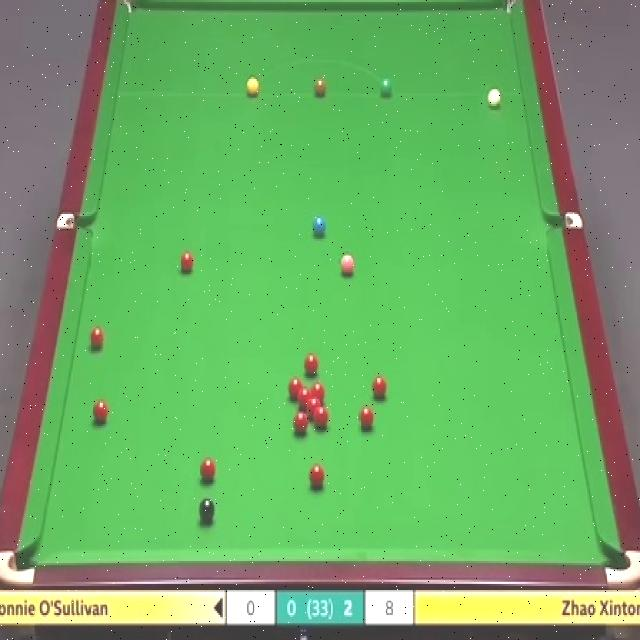black-ball: (198, 498, 216, 527)
blue-ball: (312, 214, 327, 238)
brown-ball: (314, 76, 327, 98)
green-ball: (379, 79, 392, 99)
pink-ball: (340, 253, 355, 275)
red-ball: (357, 405, 376, 433), (370, 376, 389, 404), (88, 327, 105, 355), (309, 462, 325, 490), (200, 457, 217, 482), (292, 410, 308, 436), (93, 397, 108, 424), (304, 353, 318, 378), (288, 376, 302, 401), (314, 406, 328, 430), (180, 250, 193, 273), (312, 382, 325, 403), (298, 387, 311, 407), (308, 397, 320, 417)
white-ball: (487, 85, 503, 112)
yellow-ball: (246, 77, 259, 99)
